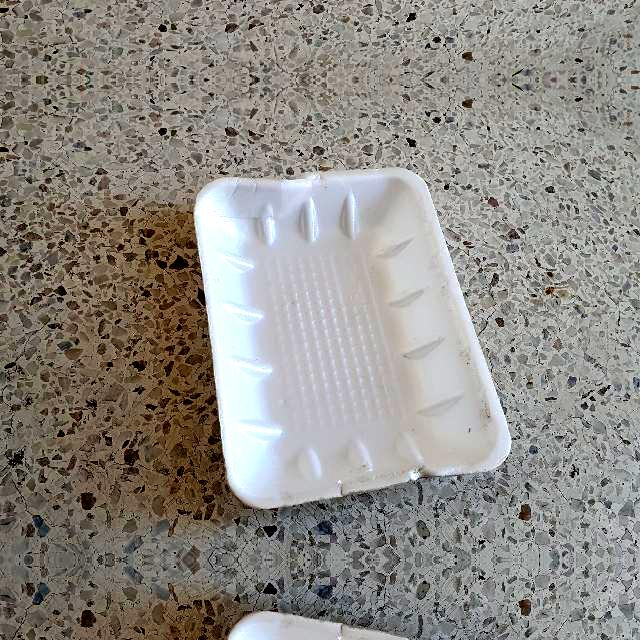Styrofoam: (193, 166, 513, 508), (194, 167, 511, 509)
